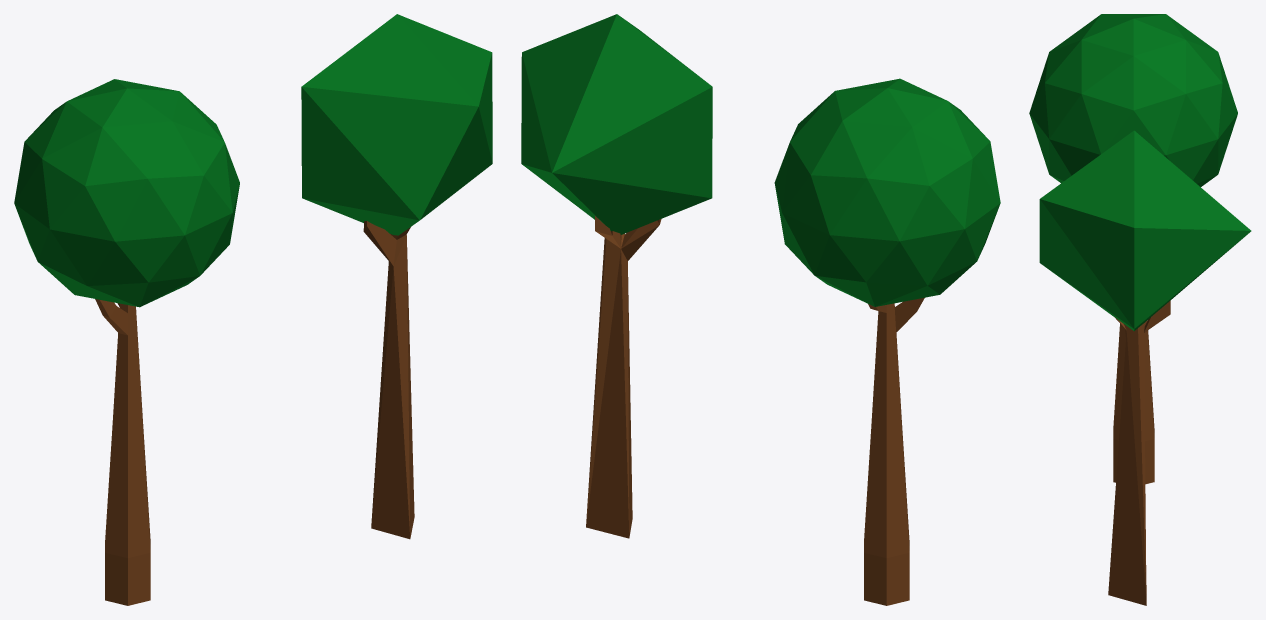
The model's file is Drzewo_2.fbx.
3 renders of one model, left to right at view 1: azimuth 30°, elevation 25°; view 2: azimuth 150°, elevation 25°; view 3: azimuth 270°, elevation 25°, orthographic. The views are drawn at different scales.
Parts seen in each view (by area): view 1: Icosphere, Icosphere.002; view 2: Icosphere, Icosphere.002; view 3: Icosphere.002, Icosphere.
Part boxes in pixels (<box>): Icosphere: <box>14,79,239,605</box>; Icosphere.002: <box>301,14,492,539</box>; Icosphere: <box>774,78,1000,605</box>; Icosphere.002: <box>521,14,712,538</box>; Icosphere.002: <box>1039,130,1251,605</box>; Icosphere: <box>1029,14,1237,484</box>.
Bounding box in the file's own units: 343 × 792 × 742.
